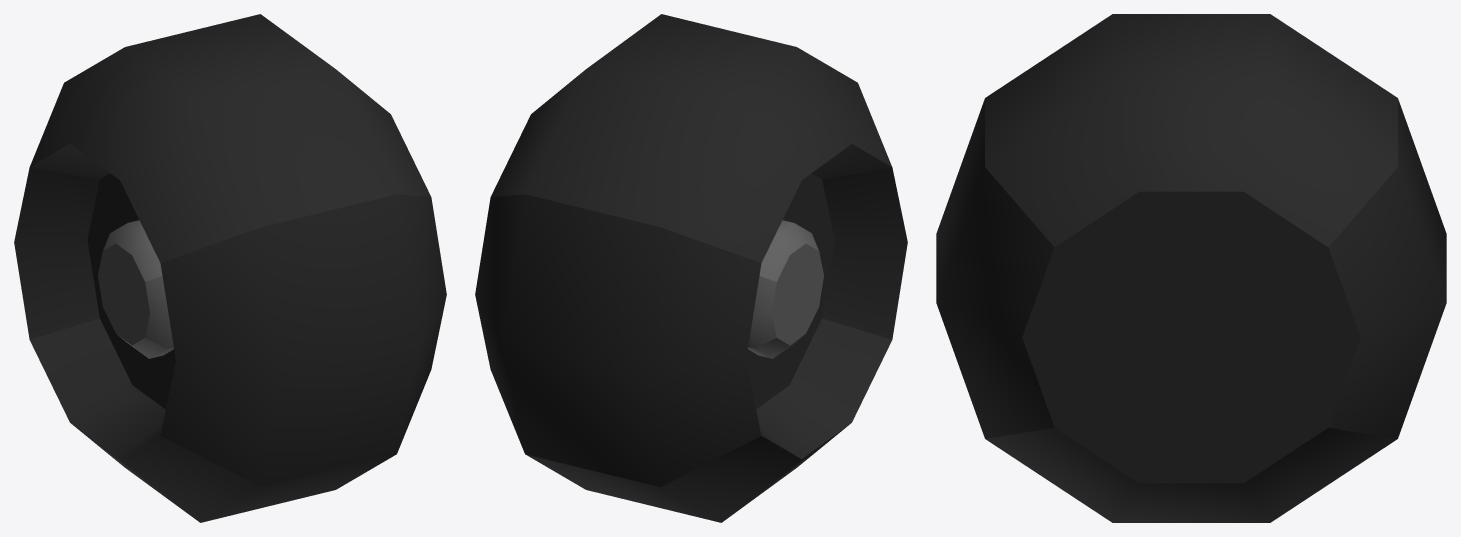
The model's file is MonsterTruckWheel.fbx.
3 views of the same model, side by side, from view 1: azimuth 30°, elevation 25°; view 2: azimuth 150°, elevation 25°; view 3: azimuth 270°, elevation 25° (orthographic). The views are drawn at different scales.
Parts seen in each view (by area): view 1: pCylinder2; view 2: pCylinder2; view 3: pCylinder2.
Part boxes in pixels (x1,y1,x2,y2): pCylinder2: (14,14,446,522); pCylinder2: (475,14,907,522); pCylinder2: (936,14,1446,522).
Bounding box in the file's own units: 0.0642 × 0.0953 × 0.1002.
